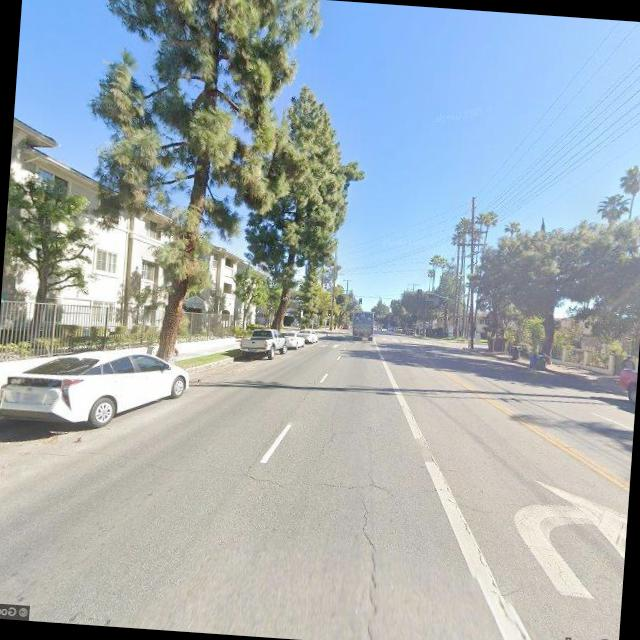crack: (57, 440, 465, 508), (346, 490, 388, 640)
